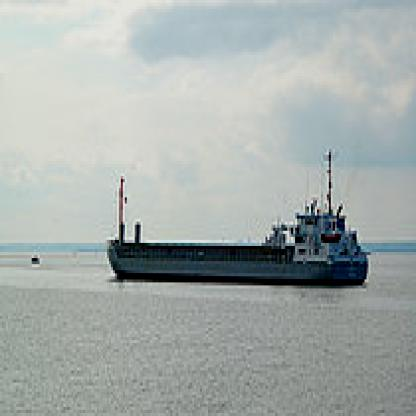Tanker: (103, 136, 376, 298)
